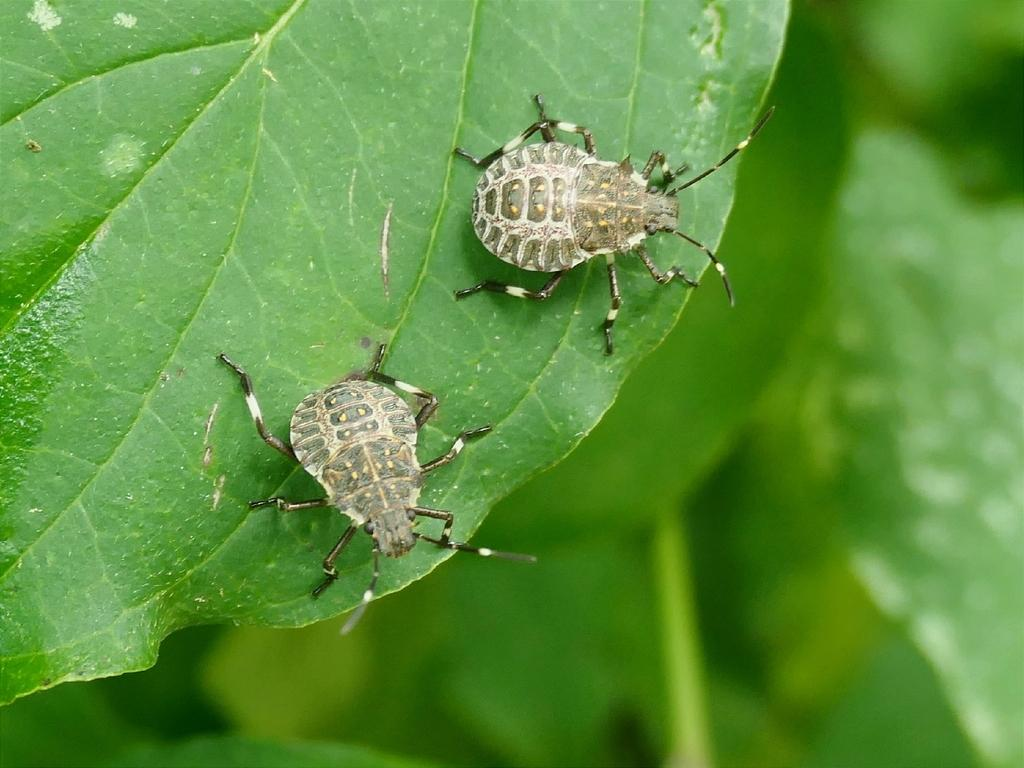stink_bugs: (172, 301, 578, 647), (402, 61, 804, 364)
